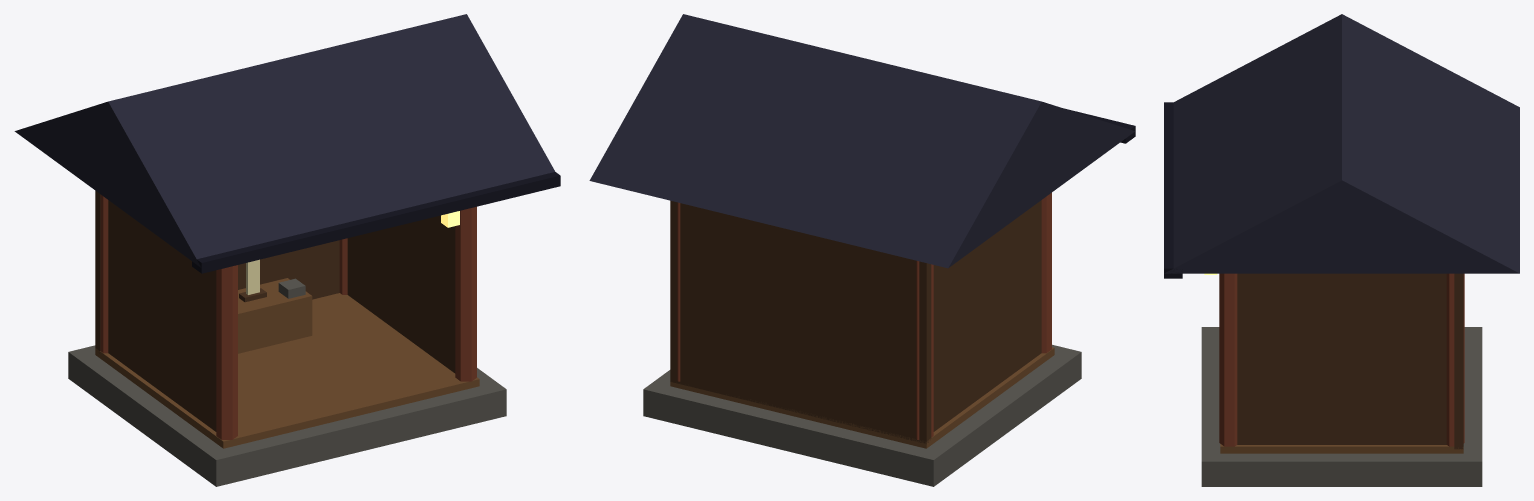
Rendered from sanseong_shrine.glb.
3 renders of one model, left to right at view 1: azimuth 30°, elevation 25°; view 2: azimuth 150°, elevation 25°; view 3: azimuth 270°, elevation 25°, orthographic. The views are drawn at different scales.
Parts seen in each view (by area): view 1: sanseong_shrine; view 2: sanseong_shrine; view 3: sanseong_shrine.
Part boxes in pixels (box(x1,y1,x2,y2)): sanseong_shrine: box(14, 14, 560, 486); sanseong_shrine: box(589, 14, 1135, 486); sanseong_shrine: box(1164, 14, 1519, 486).
Size of the model in its own units: 4.2 by 3.8 by 3.8.
